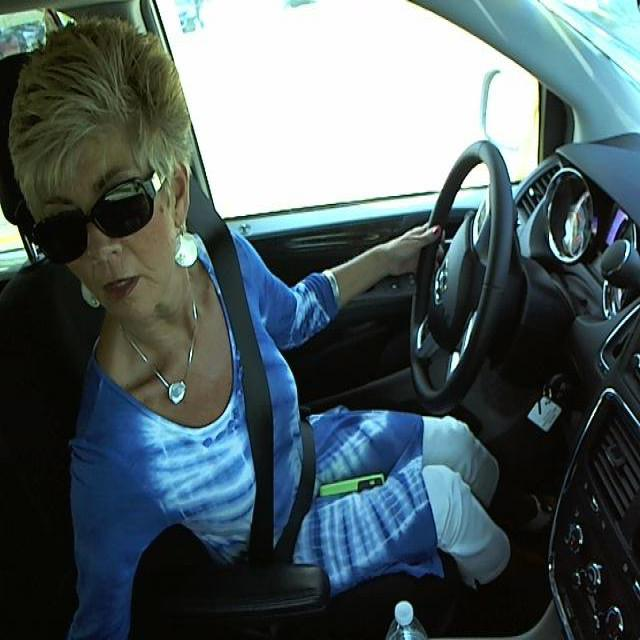seatbelt: (156, 161, 350, 639)
